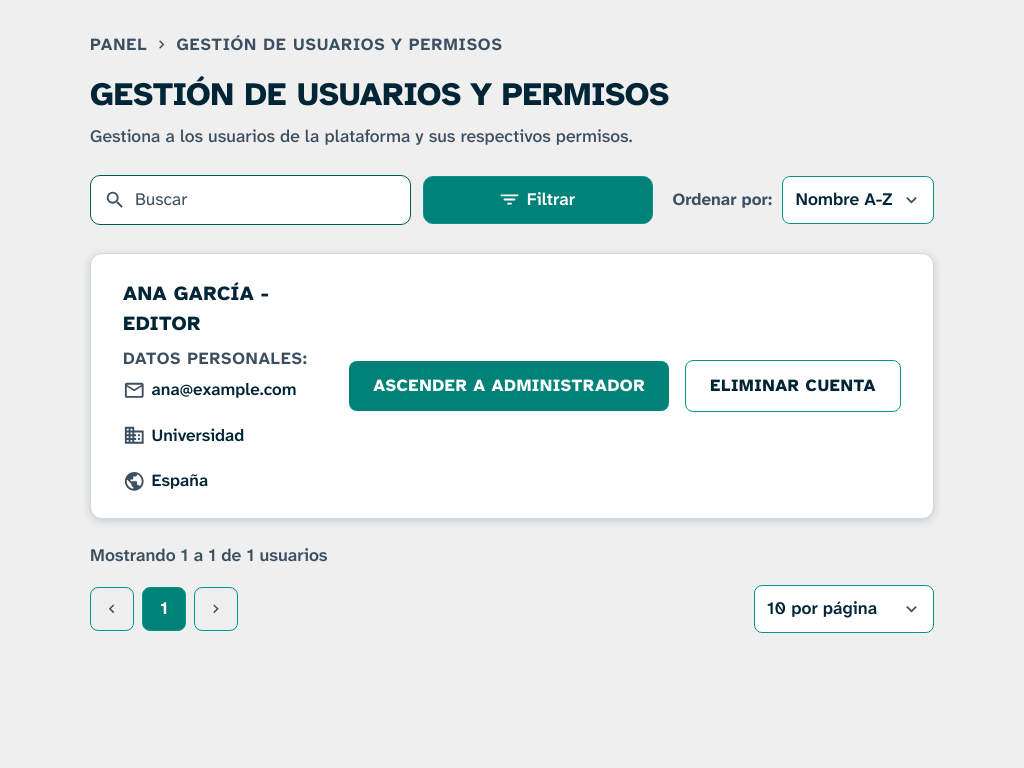
Test: UsersManagementPage › confirma el ascenso y actualiza el rol visible
The image size is (1024, 768).
Click the button "ASCENDER A ADMINISTRADOR" at (509, 386), box [349,361,669,410]
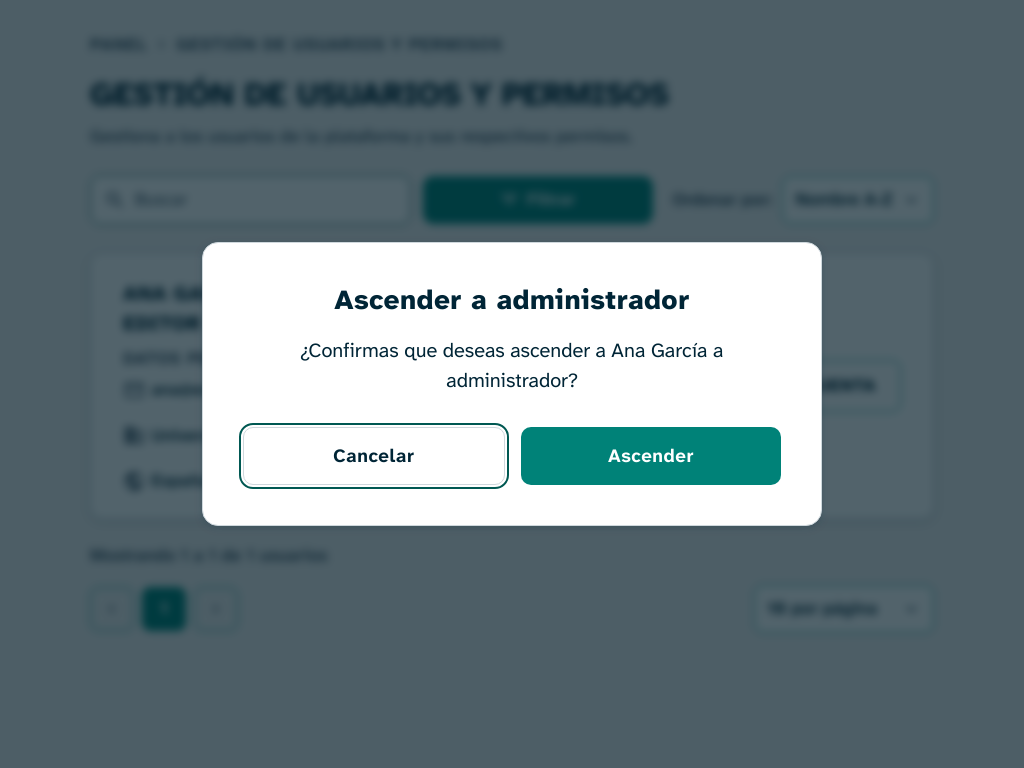
Click the button "Ascender" at (651, 456), box [521,427,781,485]
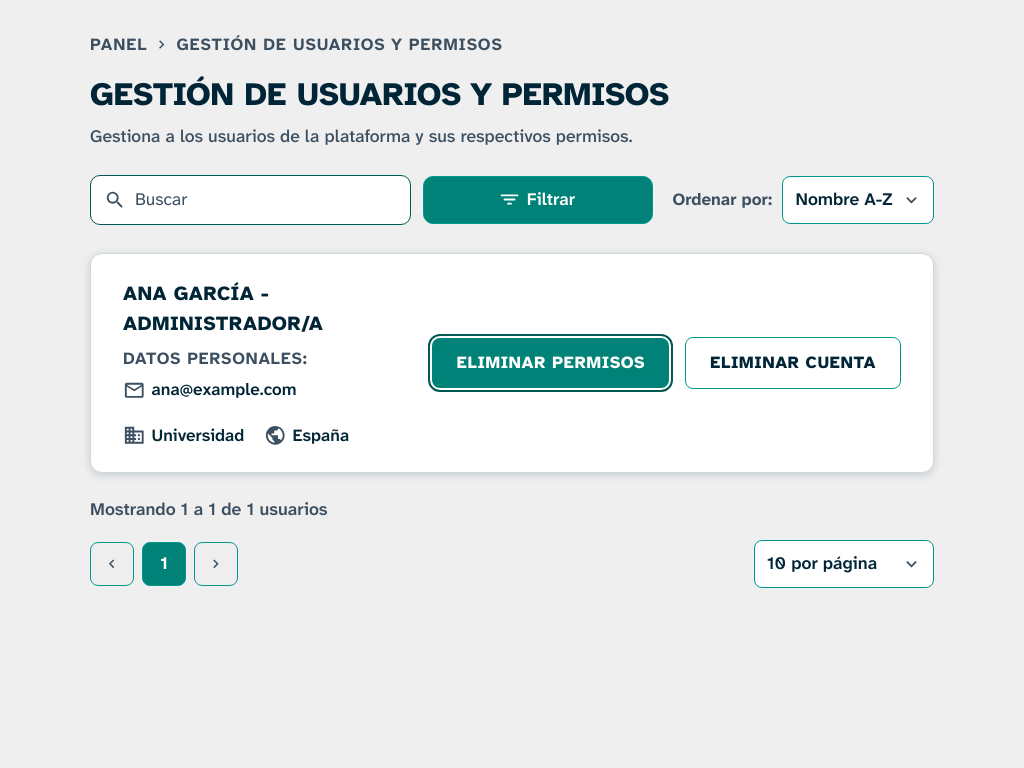
Expected: the heading "ANA GARCÍA - ADMINISTRADOR/A" is shown, [123,280,323,336]
